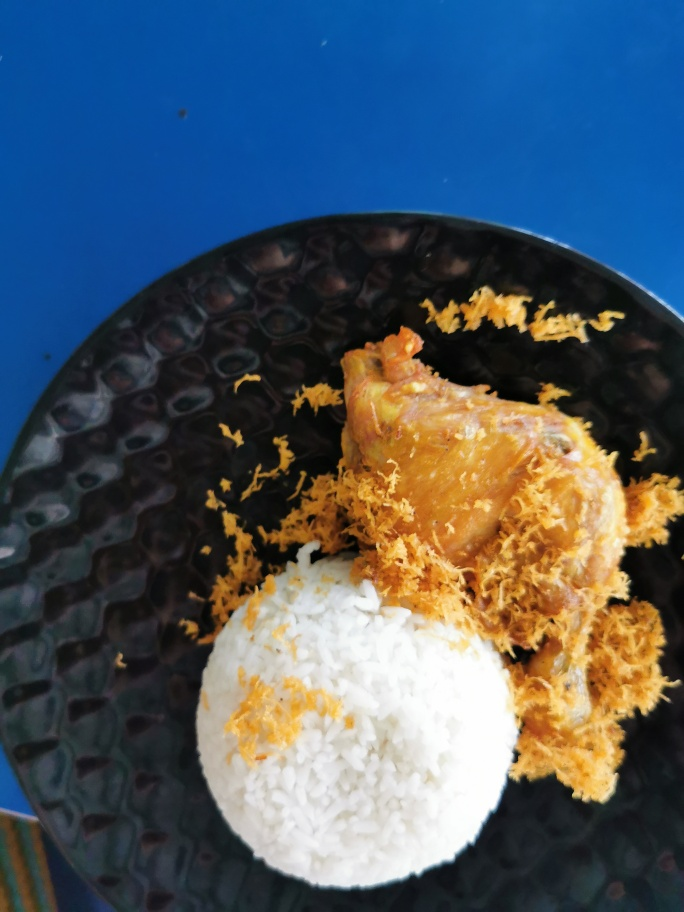ayam goreng: (297, 314, 645, 789)
nasi putih: (184, 544, 520, 886)
